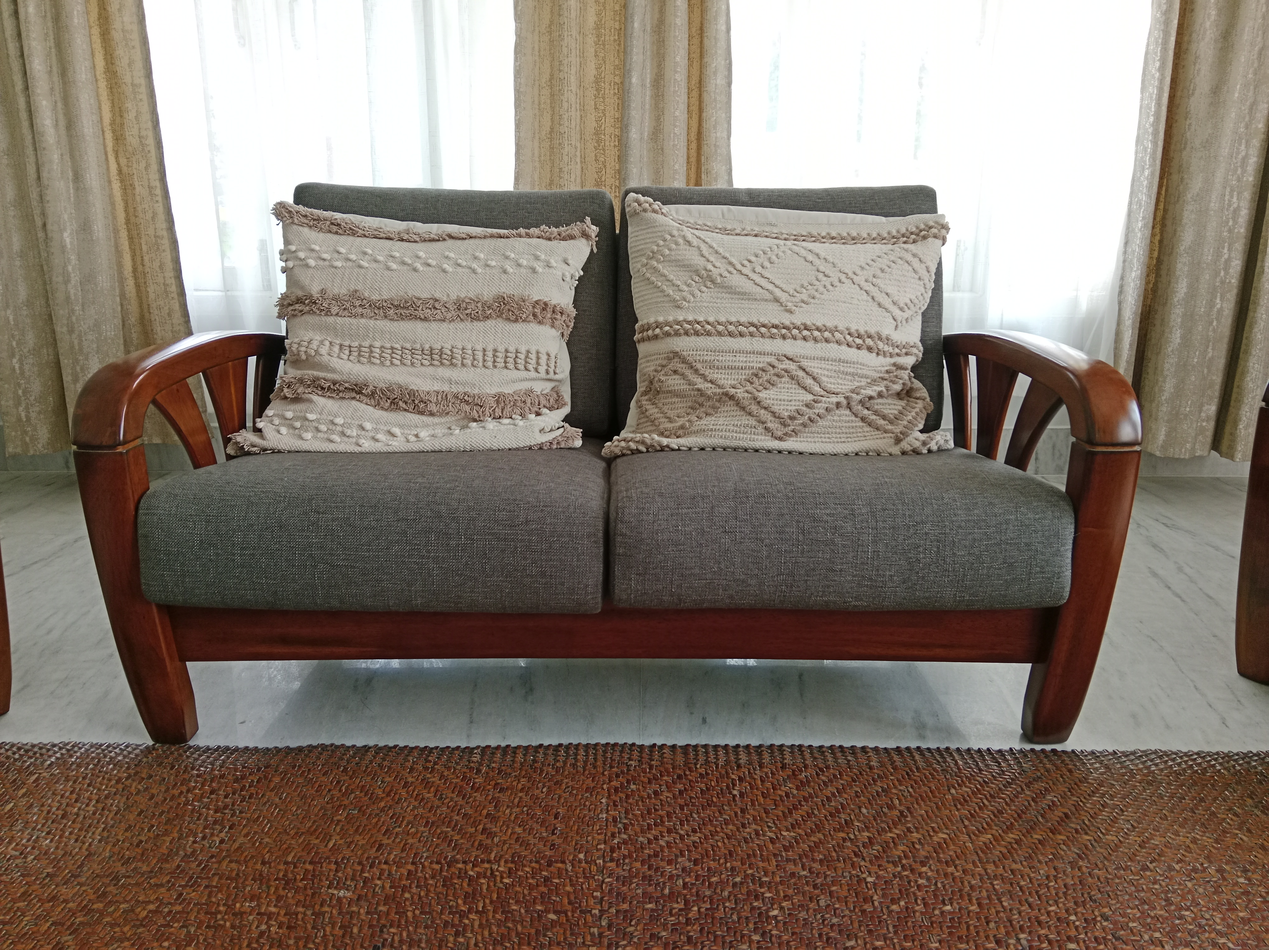sofa: (74, 177, 1144, 754)
